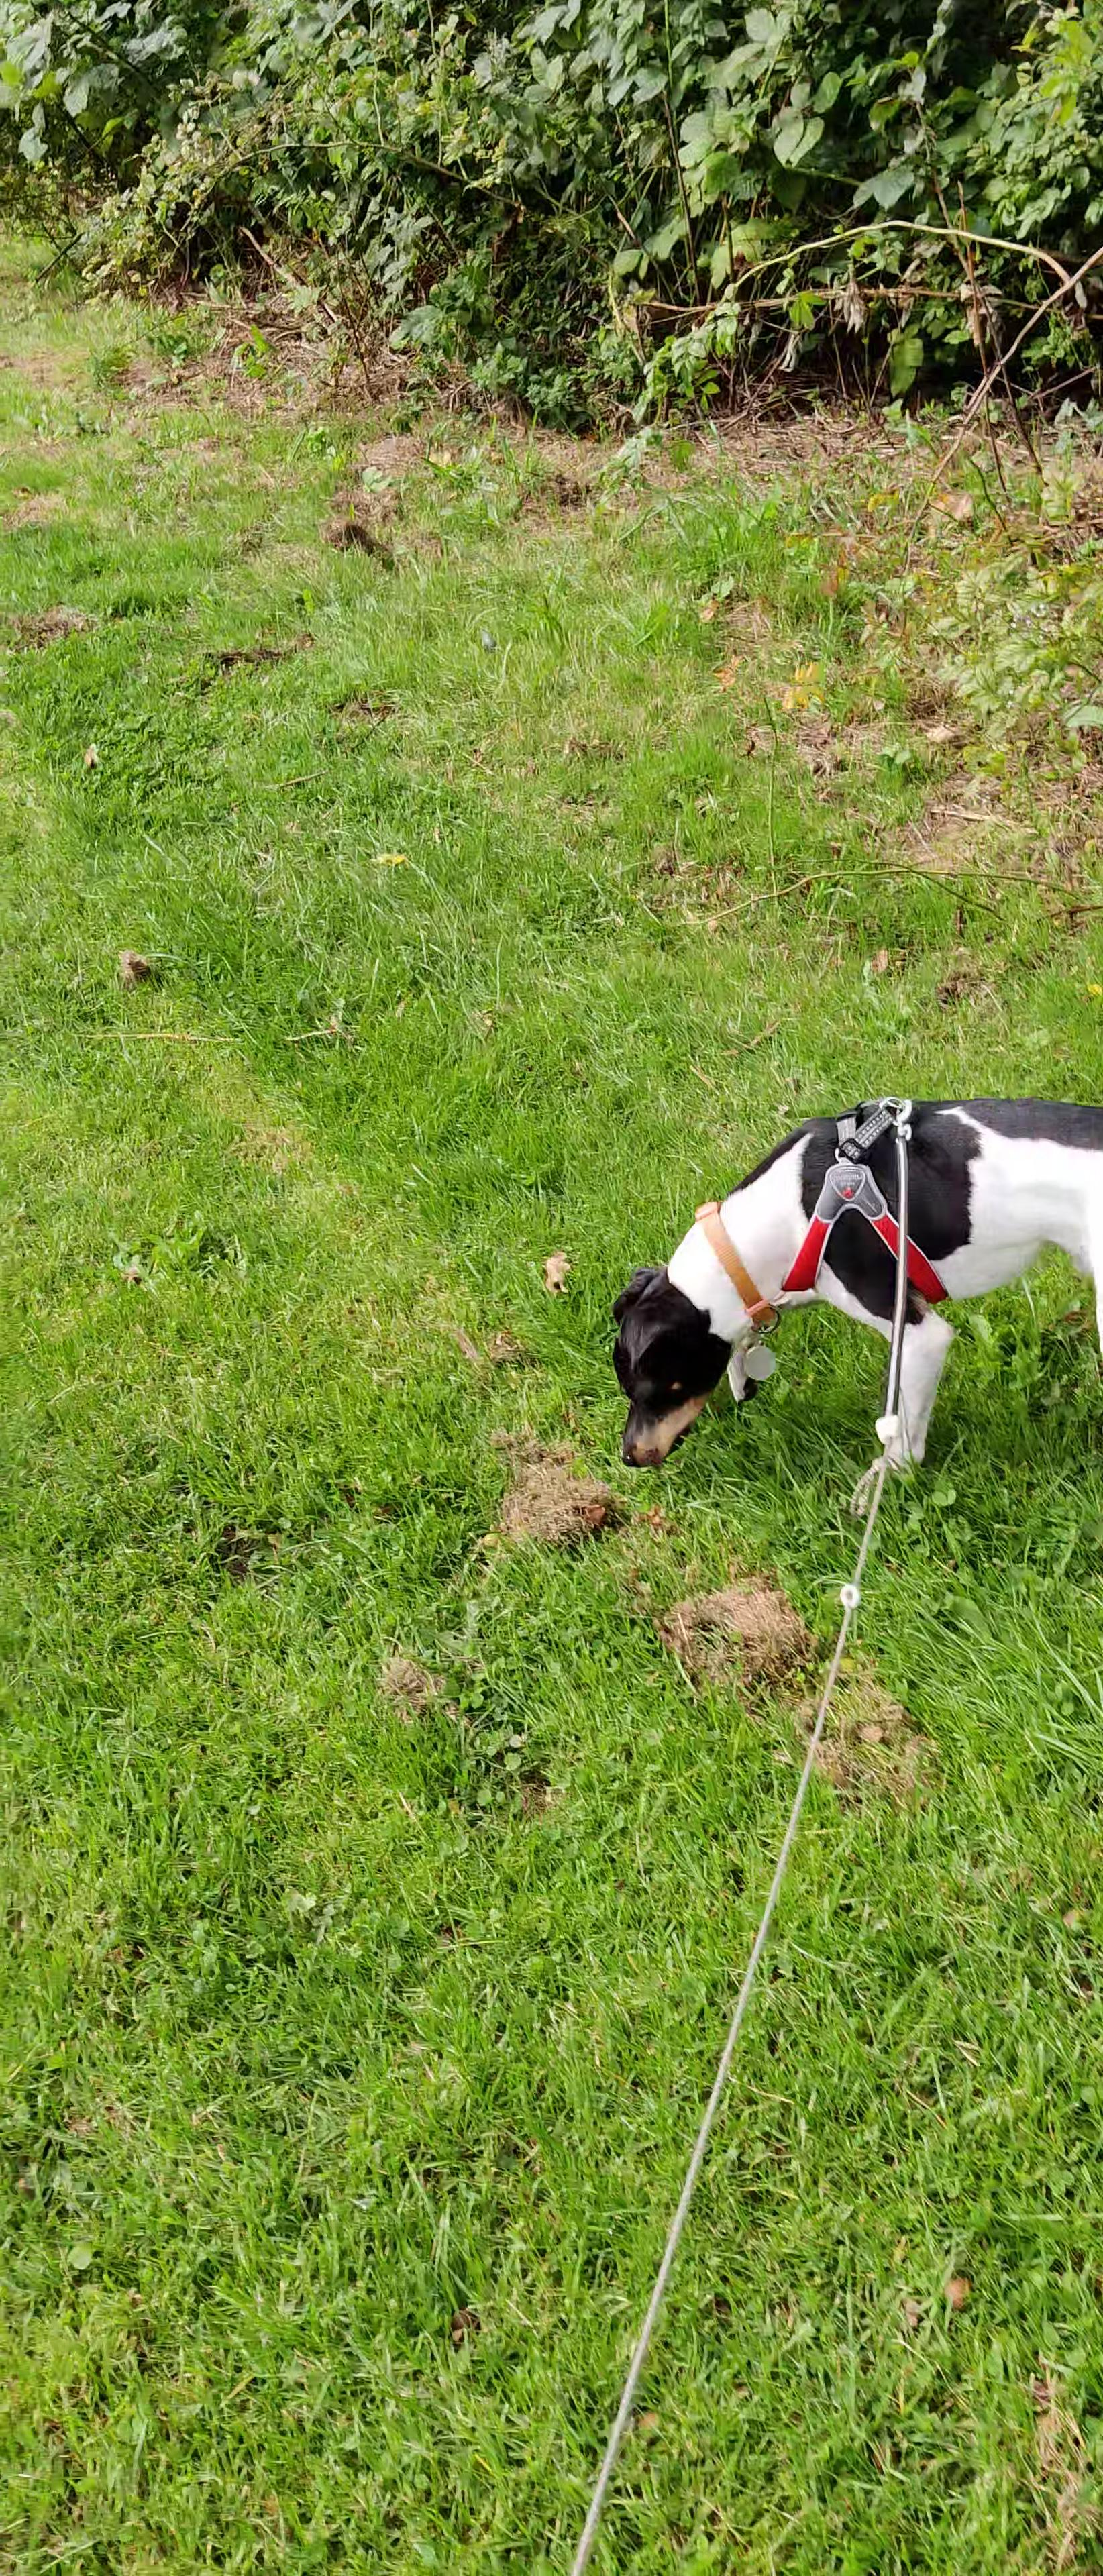Dog: (597, 1055, 1103, 1490)
